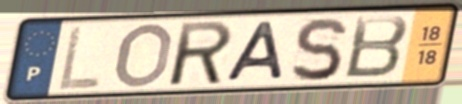A: (222, 19, 286, 84)
B: (341, 13, 412, 81)
L: (55, 23, 105, 93)
O: (111, 21, 175, 90)
R: (168, 18, 236, 88)
S: (288, 15, 349, 84)
